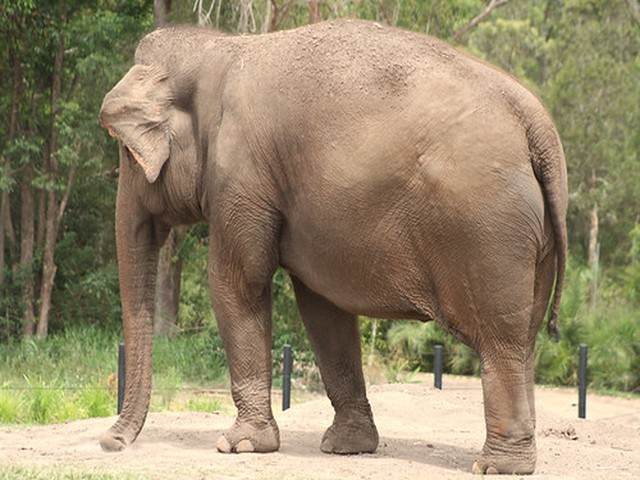Elephant: (89, 16, 571, 475)
